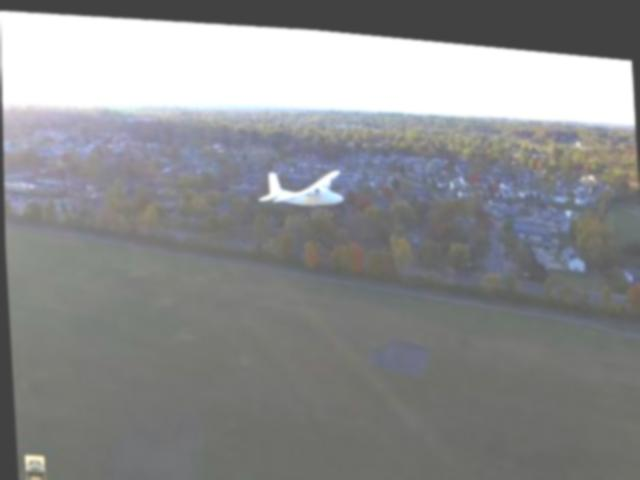uav: (255, 155, 346, 213)
